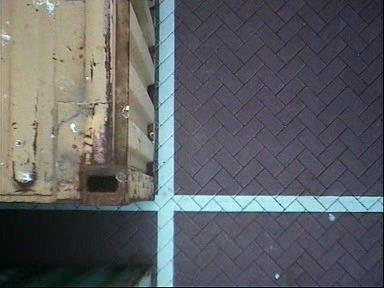groundmarker_2: (162, 134, 250, 229)
